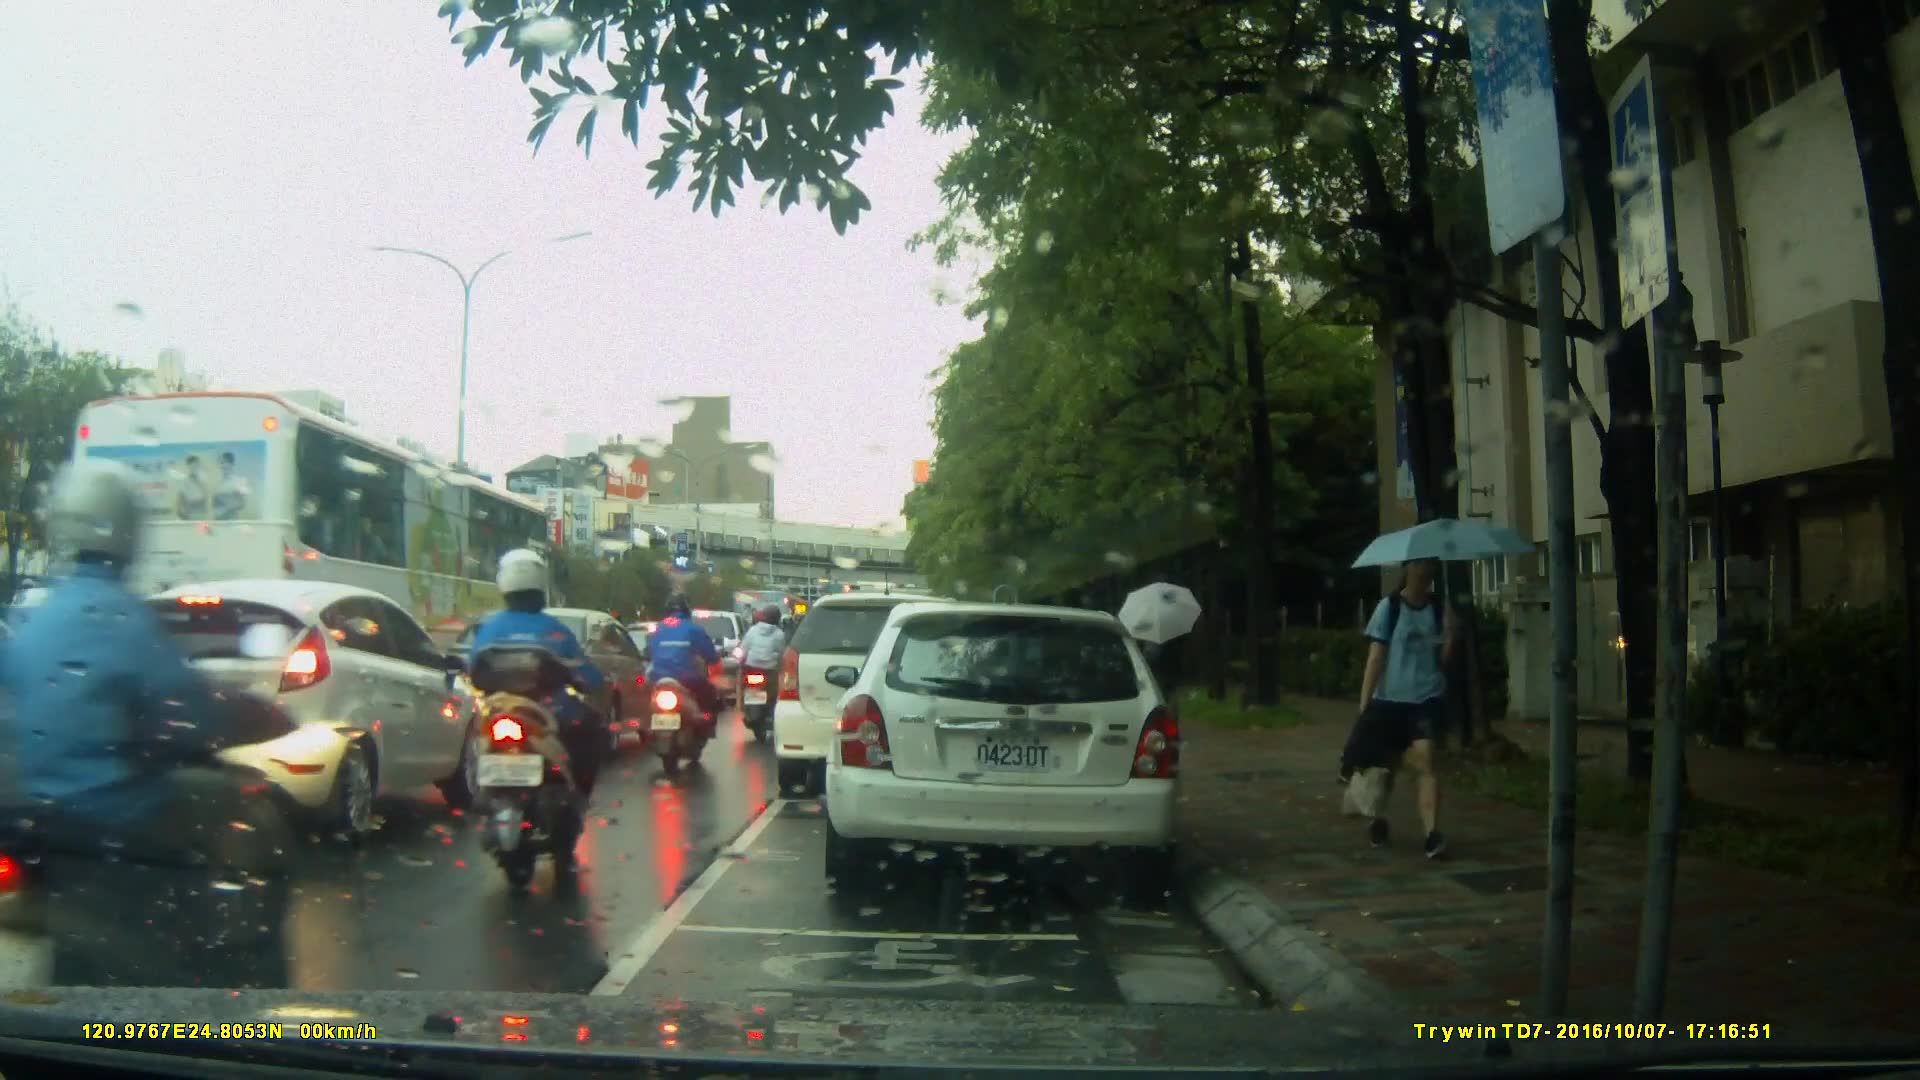pedestrian: (1341, 533, 1492, 860)
rider: (1, 462, 292, 1080), (465, 549, 610, 879), (643, 596, 725, 773), (743, 598, 803, 747)
vehicle: (64, 384, 560, 739), (835, 594, 1194, 898), (96, 576, 486, 846), (776, 590, 1026, 784), (419, 605, 664, 751), (1, 586, 155, 697), (610, 619, 722, 717)
